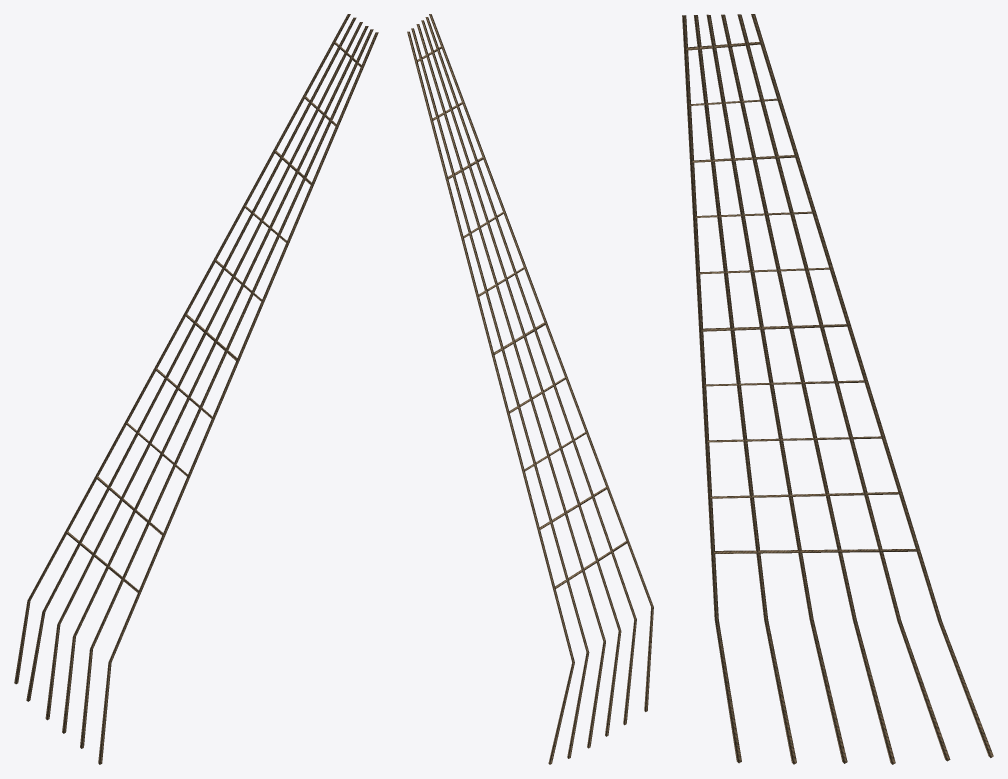
The model's file is right_rope.fbx.
3 renders of one model, left to right at view 1: azimuth 30°, elevation 25°; view 2: azimuth 150°, elevation 25°; view 3: azimuth 270°, elevation 25°, orthographic. The views are drawn at different scales.
Parts seen in each view (by area): view 1: right_rope; view 2: right_rope; view 3: right_rope.
Part boxes in pixels (bbox=[...]): right_rope: bbox=[14, 14, 378, 764]; right_rope: bbox=[407, 14, 653, 764]; right_rope: bbox=[682, 14, 993, 764].
Size of the model in its own units: 27.56 by 69.52 by 21.51.
